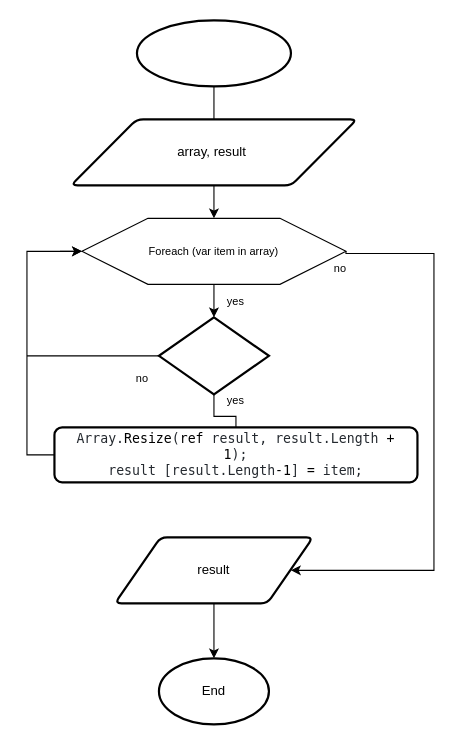
This 462x744 diagram has some shape labels left out. Each missing label, with the box of its shape:
item.Lenth <=3: (157, 316, 270, 395)
Start: (135, 19, 292, 87)
